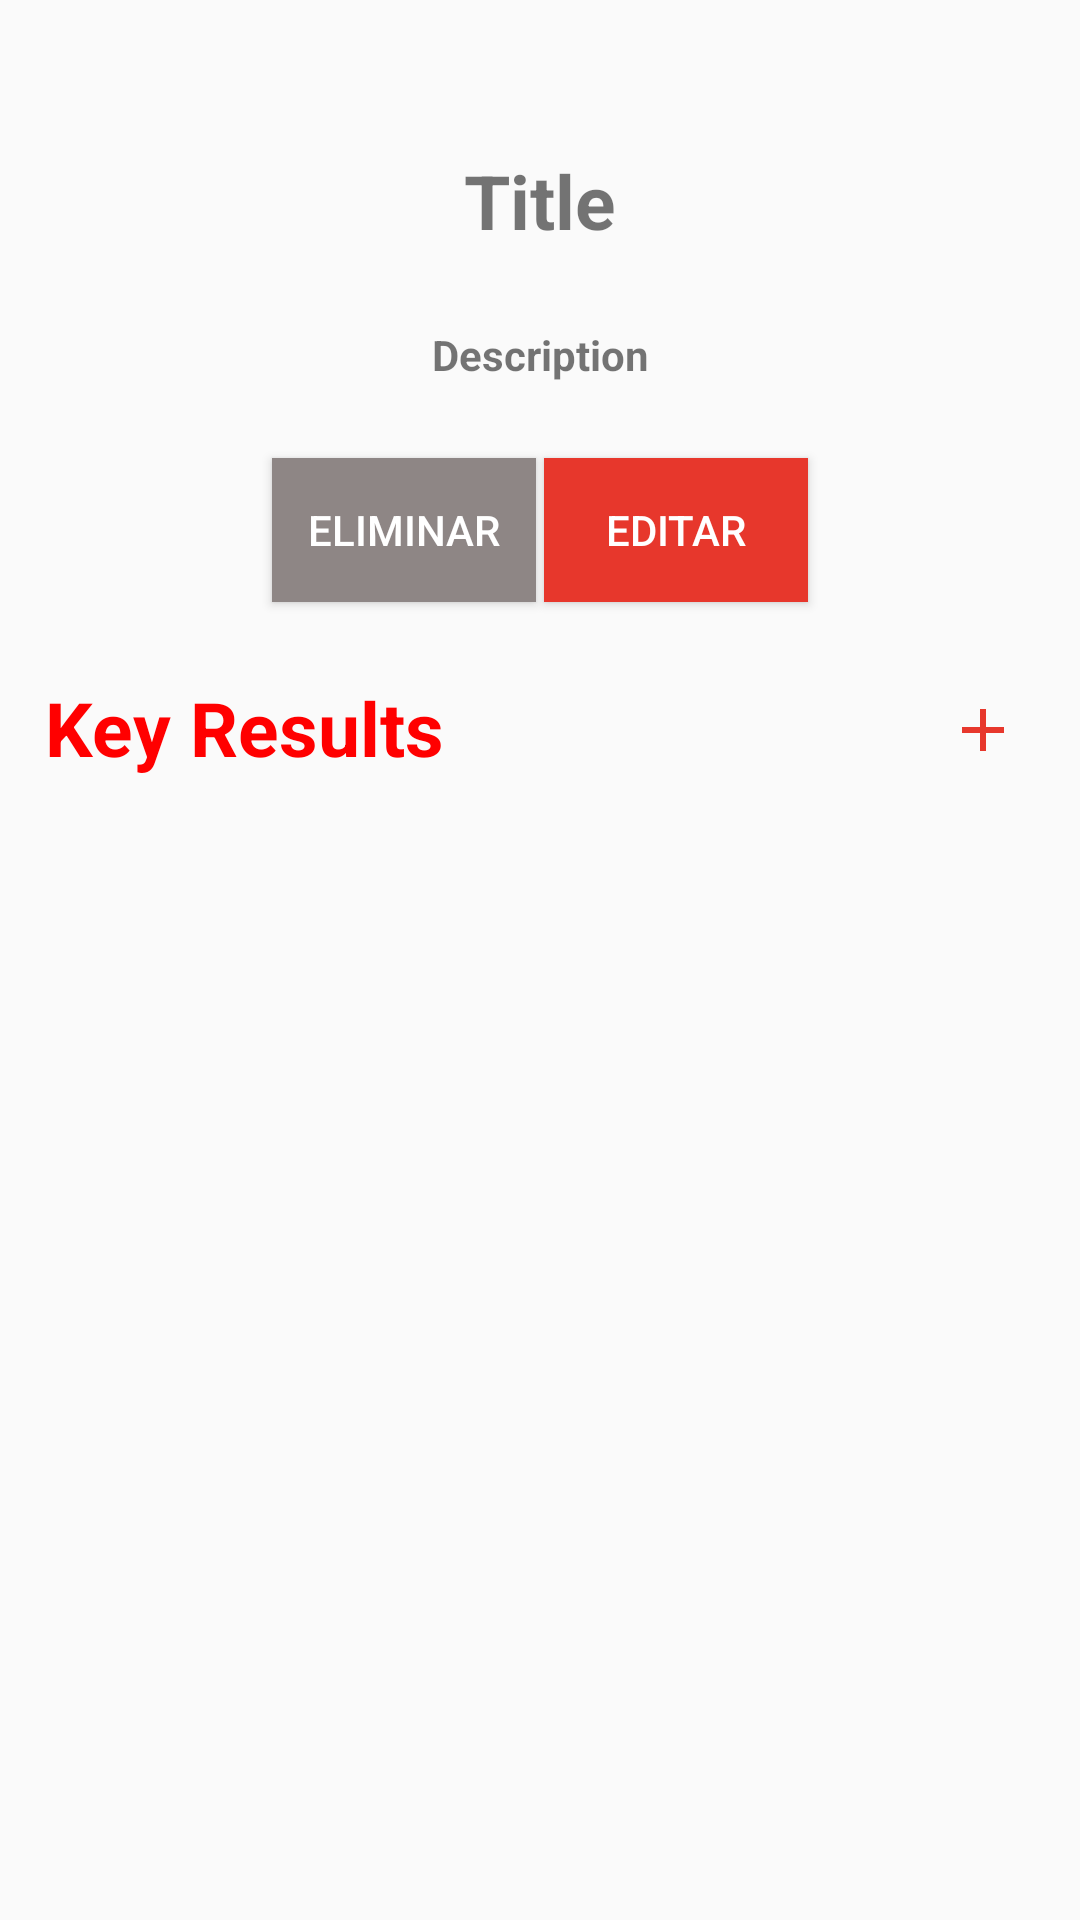

Where to tap for icons on this 1080w x 1920h app screen, as (x,y):
add: (983,730)
